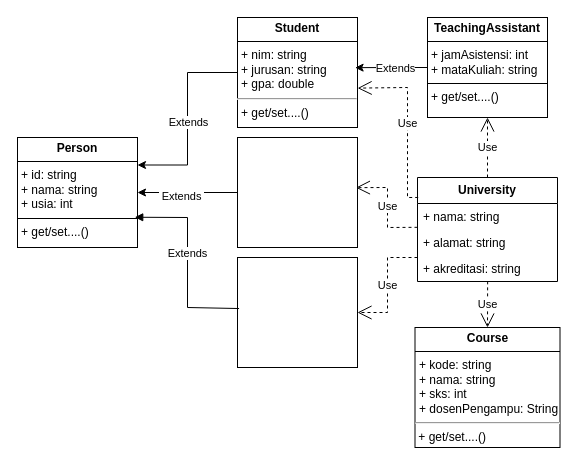
Image size: 578x465. Some labels were removed from this diagram. The shapes that lost their labels are listed below. From the top down, each one's box as (x1, y1, x2, y2) in pixels, then its label:
(236, 136, 358, 248): Lecturer + nidn: string + departemen: string + jabaran: string + get/set....()
(236, 256, 358, 368): Staff + posisi: string + gaji: double + shift: string + get/set....()
